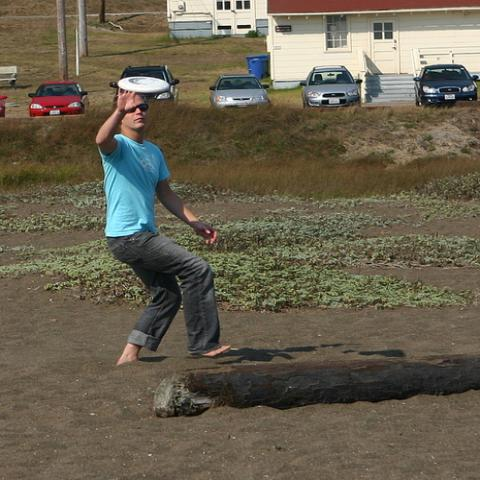car: (297, 62, 364, 110), (108, 65, 180, 106), (413, 65, 478, 108), (28, 80, 89, 116), (207, 74, 270, 106)
